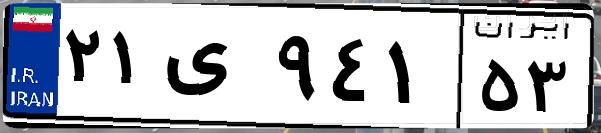1: (385, 28, 445, 110), (110, 28, 158, 98)
2: (57, 26, 110, 100)
3: (525, 38, 570, 115)
4: (330, 28, 385, 110)
5: (475, 38, 525, 113)
9: (270, 28, 330, 110)
ی: (158, 20, 270, 120)
